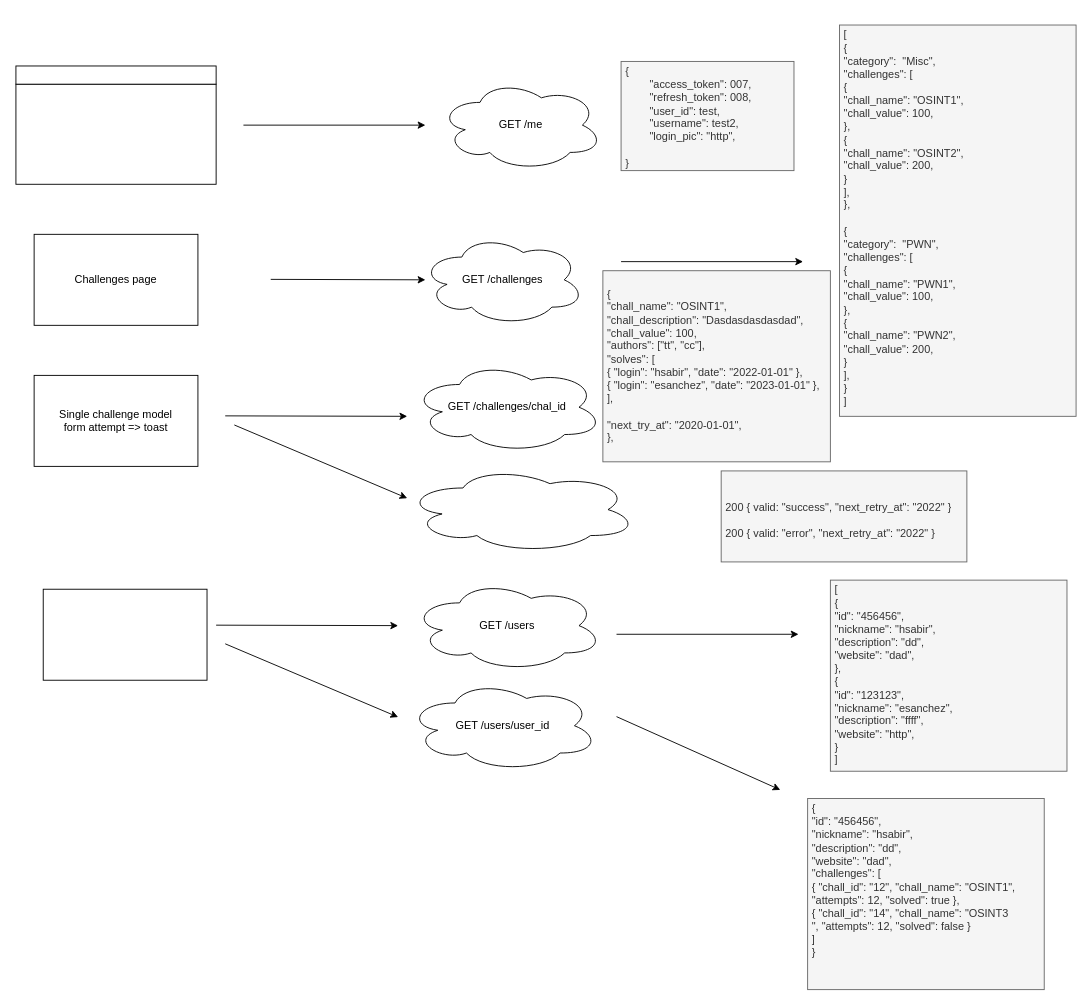
This 1092x1006 diagram has some shape labels left out. Each missing label, with the box of its shape:
HomePage: (15, 83, 216, 184)
POST /challenges/chal_id/submit: (404, 465, 637, 553)
Users page => search page front: (42, 588, 207, 680)
